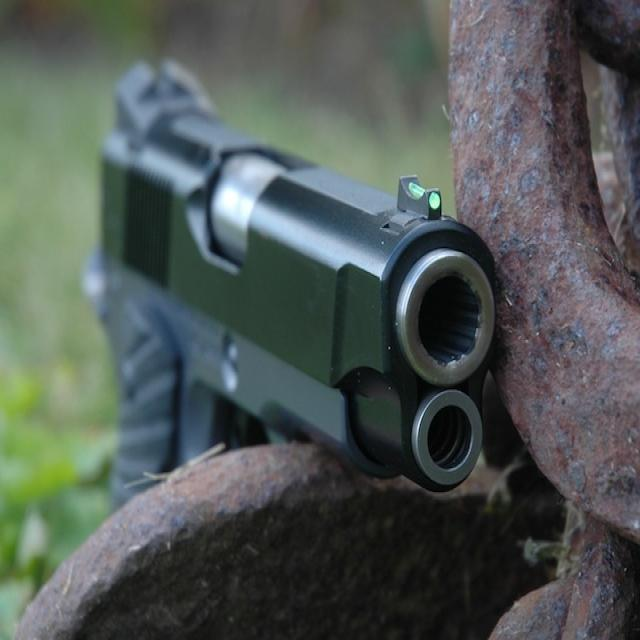weapon: (84, 53, 494, 503)
